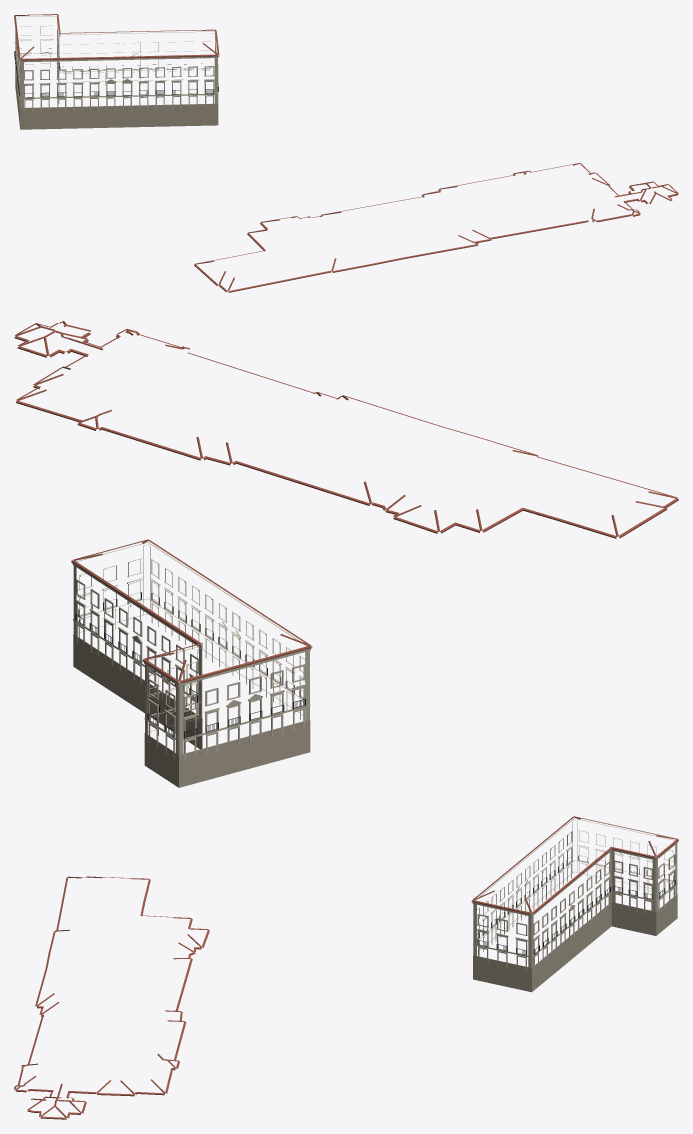
3 views of the same model, one above another, from view 1: azimuth 30°, elevation 25°; view 2: azimuth 150°, elevation 25°; view 3: azimuth 270°, elevation 25° (orthographic). The views are drawn at different scales.
Parts seen in each view (by area): view 1: detail; view 2: detail; view 3: detail.
Part boxes in pixels (bbox=[...]): detail: bbox=[14, 14, 678, 292]; detail: bbox=[14, 321, 678, 787]; detail: bbox=[14, 816, 678, 1119].
Bounding box in the file's own units: 95.54 × 15.83 × 111.
